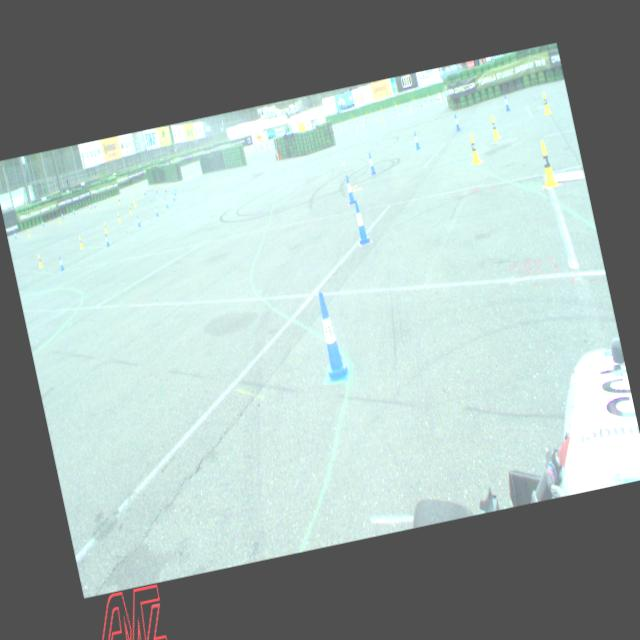blue_cone: (309, 288, 351, 382), (350, 198, 371, 244), (343, 174, 357, 204), (367, 152, 376, 174), (412, 130, 420, 148), (502, 93, 510, 111), (453, 114, 460, 130), (103, 232, 110, 247), (58, 256, 65, 270), (136, 215, 141, 227), (154, 205, 158, 216), (164, 198, 168, 208), (171, 192, 175, 200), (164, 184, 166, 192)
yellow_cone: (536, 140, 558, 188), (466, 132, 481, 164), (488, 114, 500, 140), (540, 90, 550, 114), (37, 253, 43, 267), (78, 235, 84, 248), (103, 222, 108, 232), (117, 212, 121, 222), (128, 204, 132, 213), (132, 194, 136, 203), (132, 198, 136, 206)
